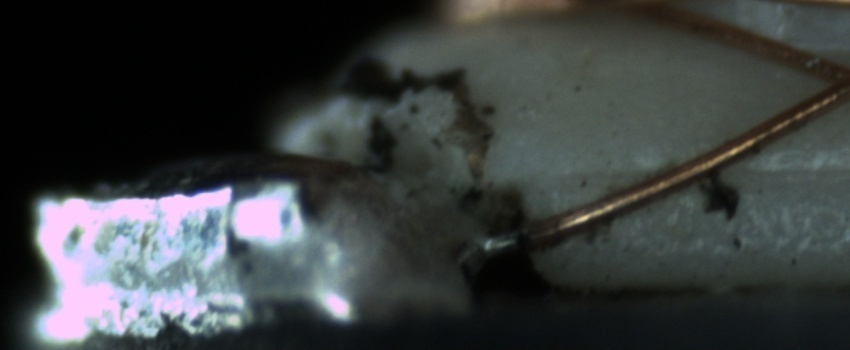CL: (801, 52, 850, 114)
DL: (566, 140, 849, 207)
TS: (472, 226, 528, 260)
